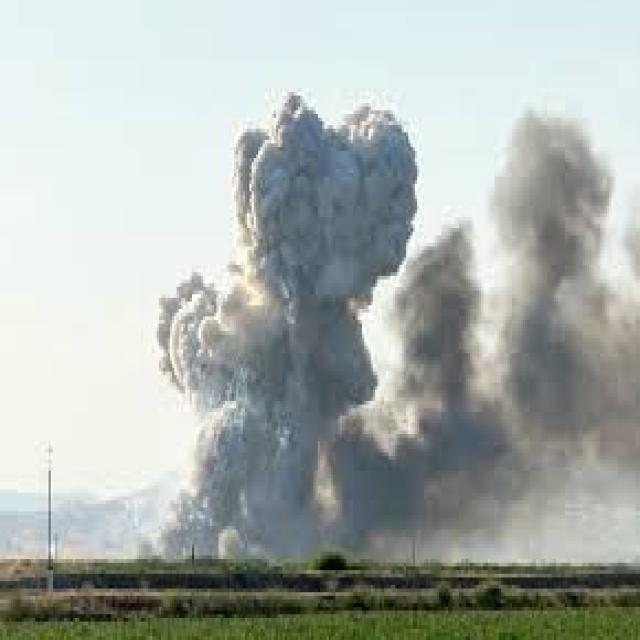explosion: (138, 70, 640, 566)
